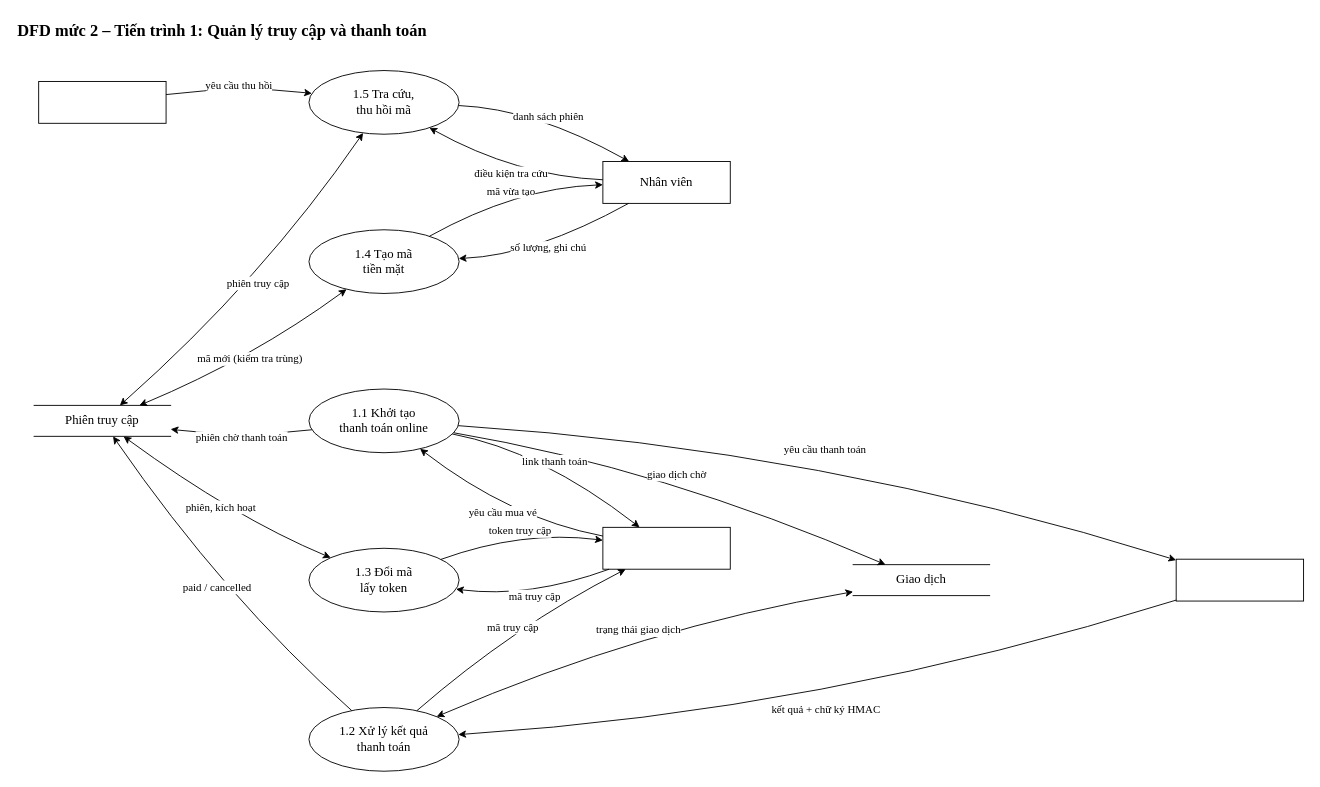
This 1320x787 diagram has some shape labels left out. The shapes that lost their labels are listed below. From the top down, each one's centre as x and y in pixels, then its label:
pixel 102 102: Quản trị viên
pixel 666 547: Du khách
pixel 1239 579: Cổng thanh toán
